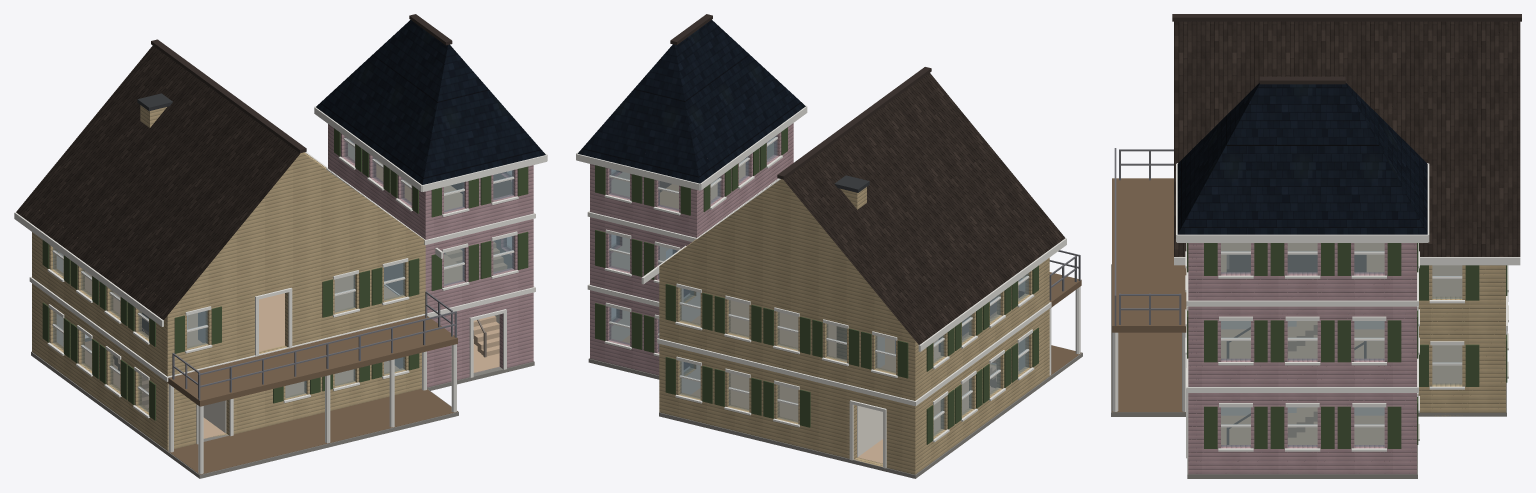
File: ns-victorian.towns-v1.lod0.glb
3 views of the same model, side by side, from view 1: azimuth 30°, elevation 25°; view 2: azimuth 150°, elevation 25°; view 3: azimuth 270°, elevation 25° (orthographic). The views are drawn at different scales.
Parts seen in each view (by area): view 1: ns-victorian; view 2: ns-victorian; view 3: ns-victorian.
Boxes of the visible parts, left/top/right/bottom form: ns-victorian: left=14, top=14, right=547, bottom=478; ns-victorian: left=576, top=14, right=1082, bottom=478; ns-victorian: left=1111, top=14, right=1521, bottom=478.
Bounding box in the file's own units: 16.48 × 12.81 × 12.93.
Materials: 7 (3 with a texture image).
